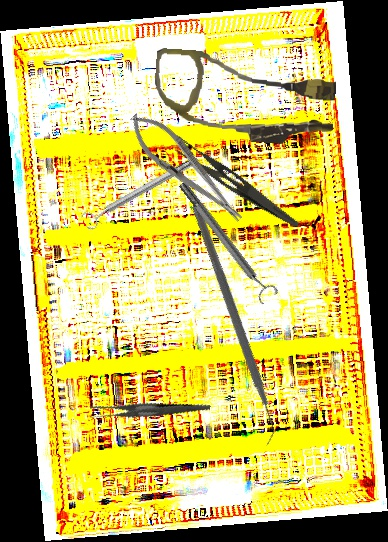Cannula: (151, 47, 338, 148)
Chopper: (101, 201, 359, 451)
Dressing Forceps: (165, 132, 309, 230), (87, 373, 211, 450)
Fixation Ring: (173, 175, 280, 307), (79, 152, 201, 232)
Needle Holder: (119, 103, 253, 234)
